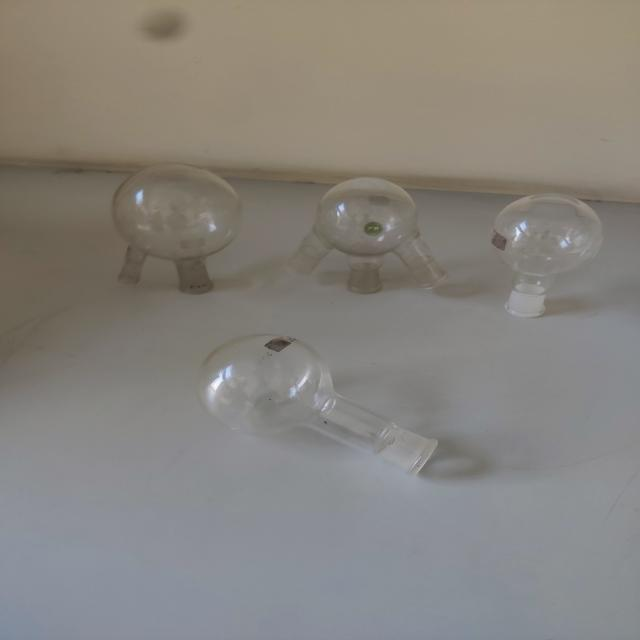Round_Bottom_Flask_Borosilicate_Glass_1_Neck: (180, 311, 476, 490), (470, 172, 623, 338)
Round_Bottom_Flask_Borosilicate_Glass_2_Neck: (77, 152, 265, 303)
Round_Bottom_Flask_Borosilicate_Glass_3_Neck: (273, 148, 461, 308)
